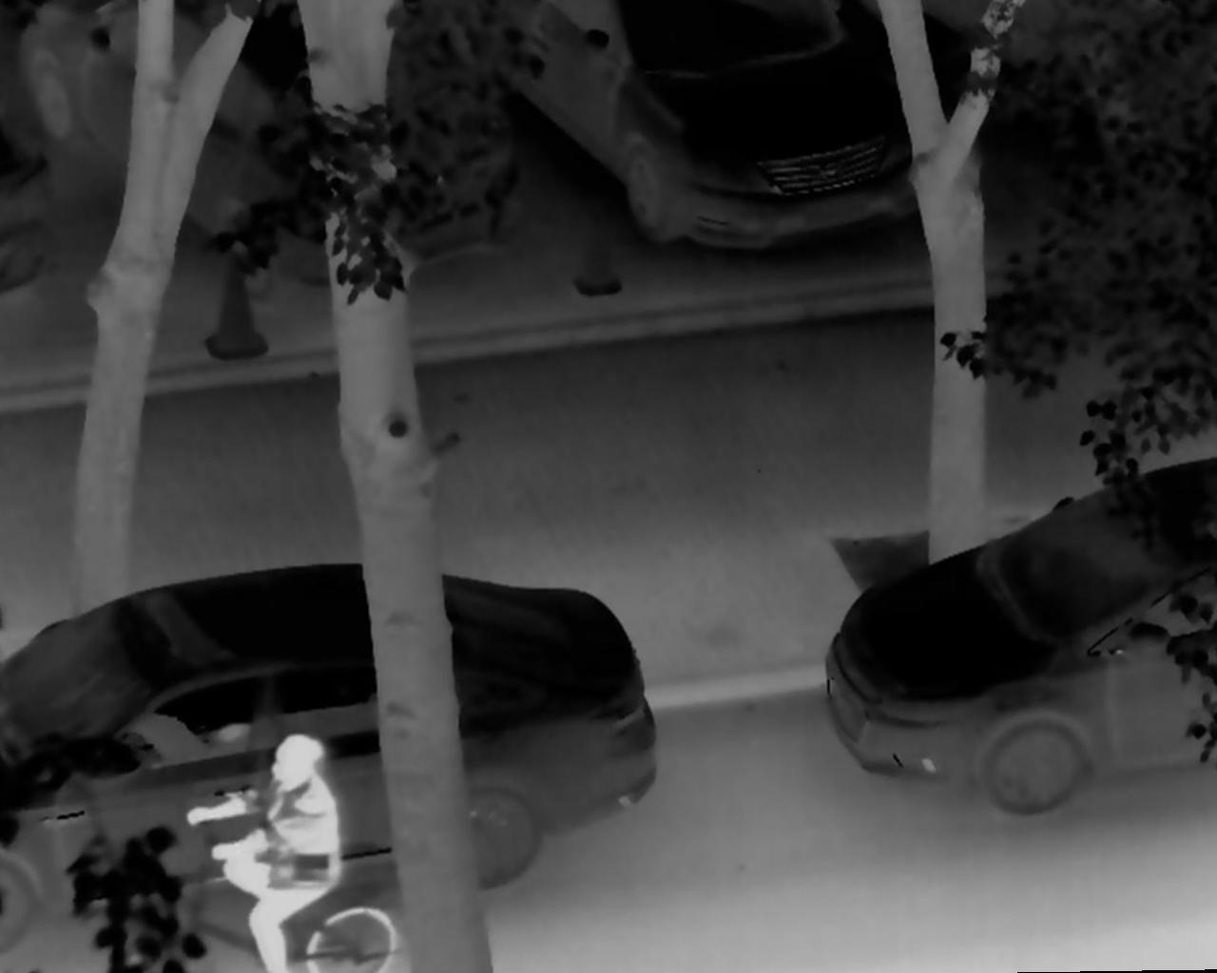person: (175, 734, 345, 973)
